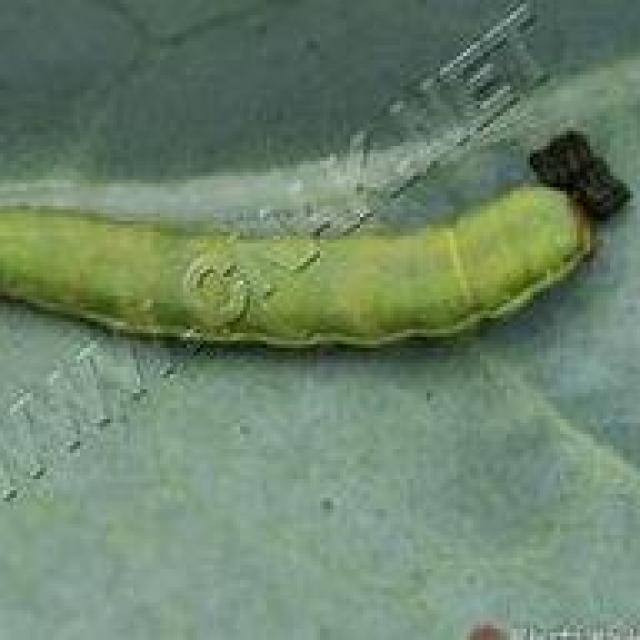BeetArmyWorm-Larva-: (0, 174, 605, 342)
